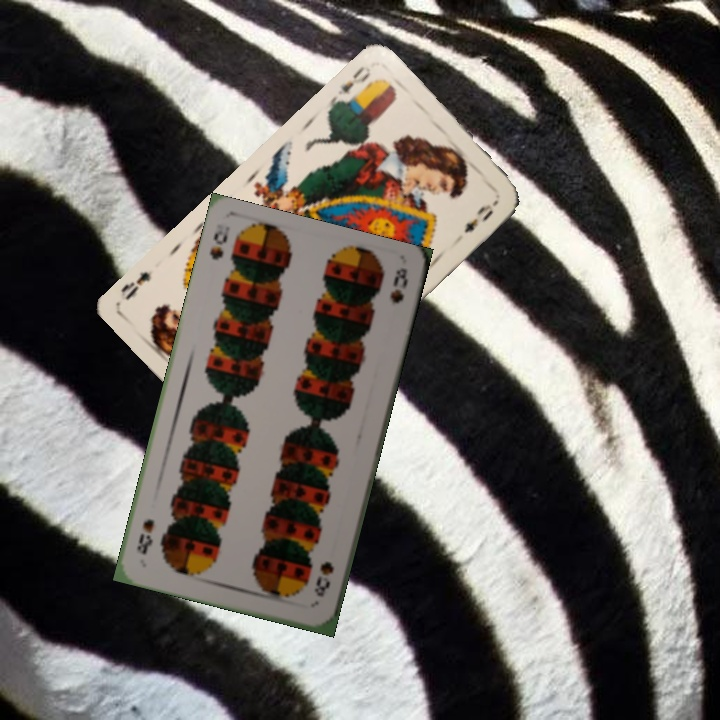EO: (327, 61, 375, 108)
S8: (205, 220, 233, 263), (310, 557, 336, 600)
